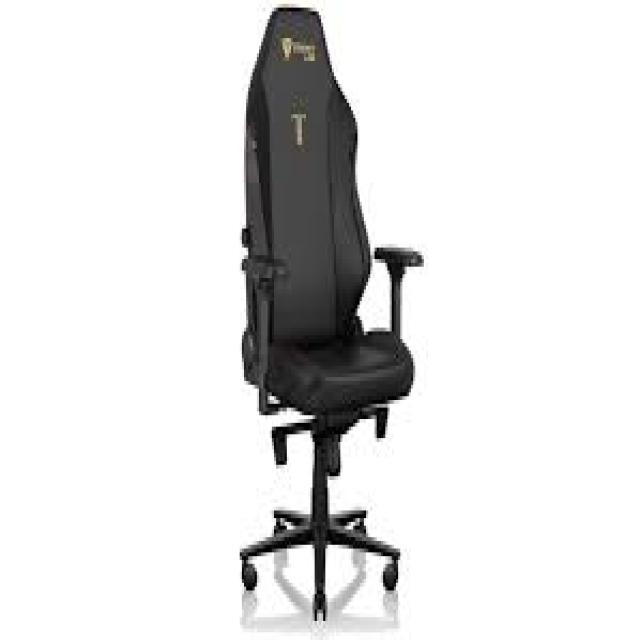chair: (163, 0, 440, 640)
